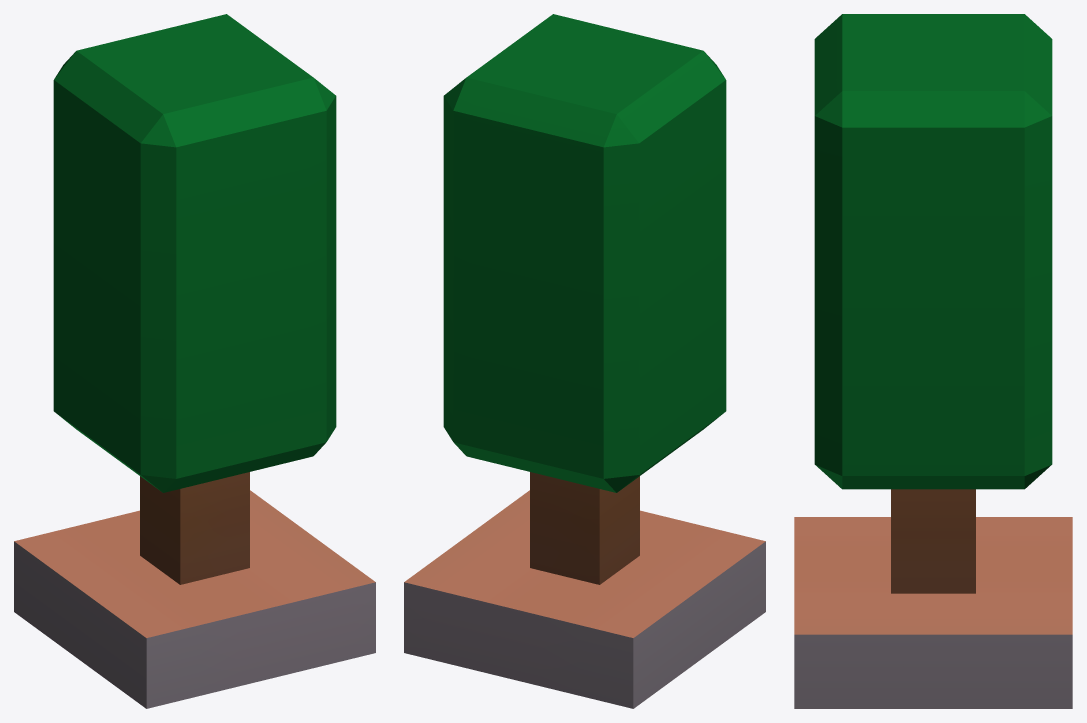
The model's file is cottage tree 1.fbx.
3 views of the same model, side by side, from view 1: azimuth 30°, elevation 25°; view 2: azimuth 150°, elevation 25°; view 3: azimuth 270°, elevation 25° (orthographic). The views are drawn at different scales.
Parts seen in each view (by area): view 1: cottage tree 1; view 2: cottage tree 1; view 3: cottage tree 1.
Boxes of the visible parts, box(x1,y1,x2,y2) form: cottage tree 1: box(14, 14, 375, 708); cottage tree 1: box(404, 14, 765, 708); cottage tree 1: box(794, 14, 1072, 708).
Bounding box in the file's own units: 83.08 × 197 × 83.08.
Materials: 1 (1 with a texture image).
